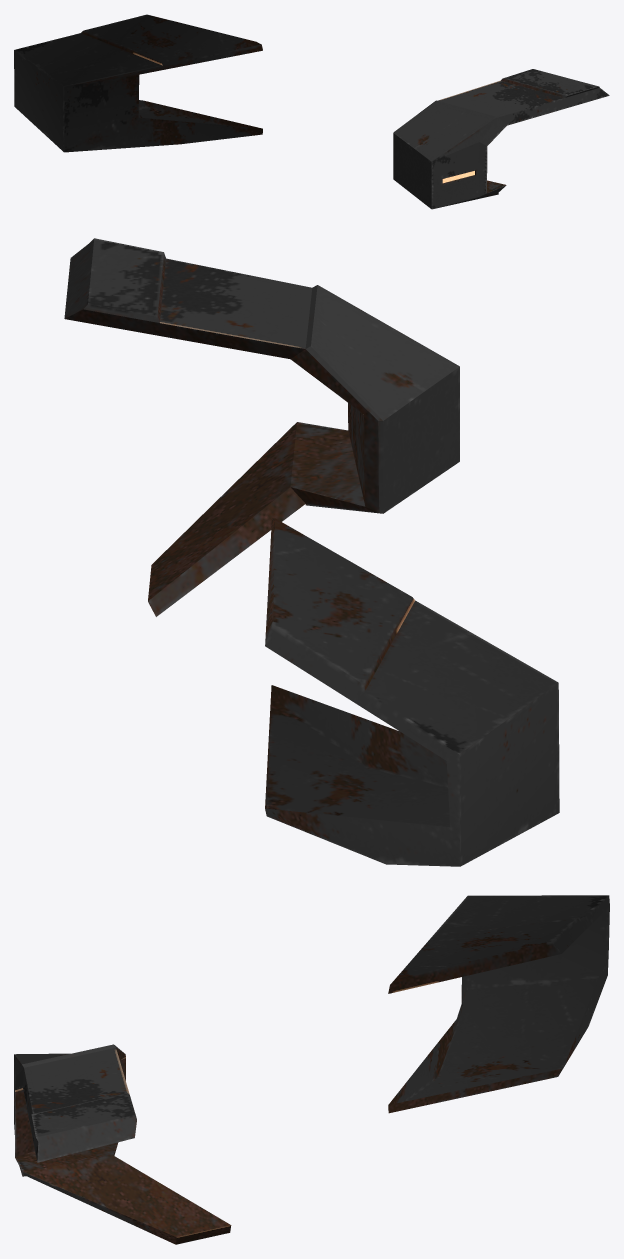
File: player_mounts_right.fbx
3 renders of one model, top to bottom at view 1: azimuth 30°, elevation 25°; view 2: azimuth 150°, elevation 25°; view 3: azimuth 270°, elevation 25°, orthographic. The views are drawn at different scales.
Visible parts, largest first — view 1: wing mount right; view 2: wing mount right; view 3: wing mount right.
Boxes of the visible parts, x1,y1,x2,y2 form: wing mount right: [14, 14, 609, 209]; wing mount right: [64, 238, 559, 866]; wing mount right: [14, 895, 609, 1244].
Size of the model in its own units: 349 by 102 by 320.
